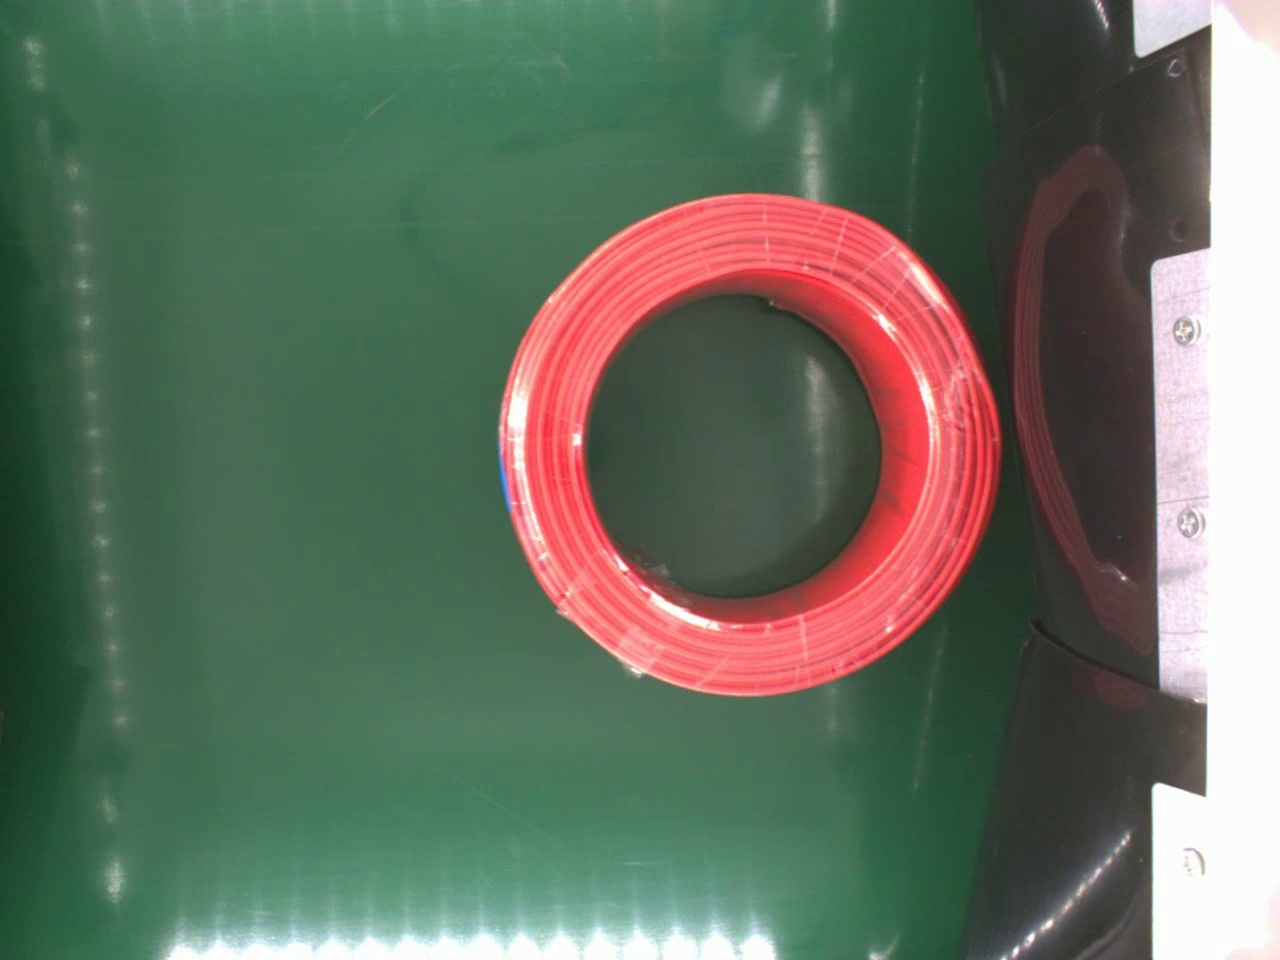red: (492, 185, 1003, 709)
